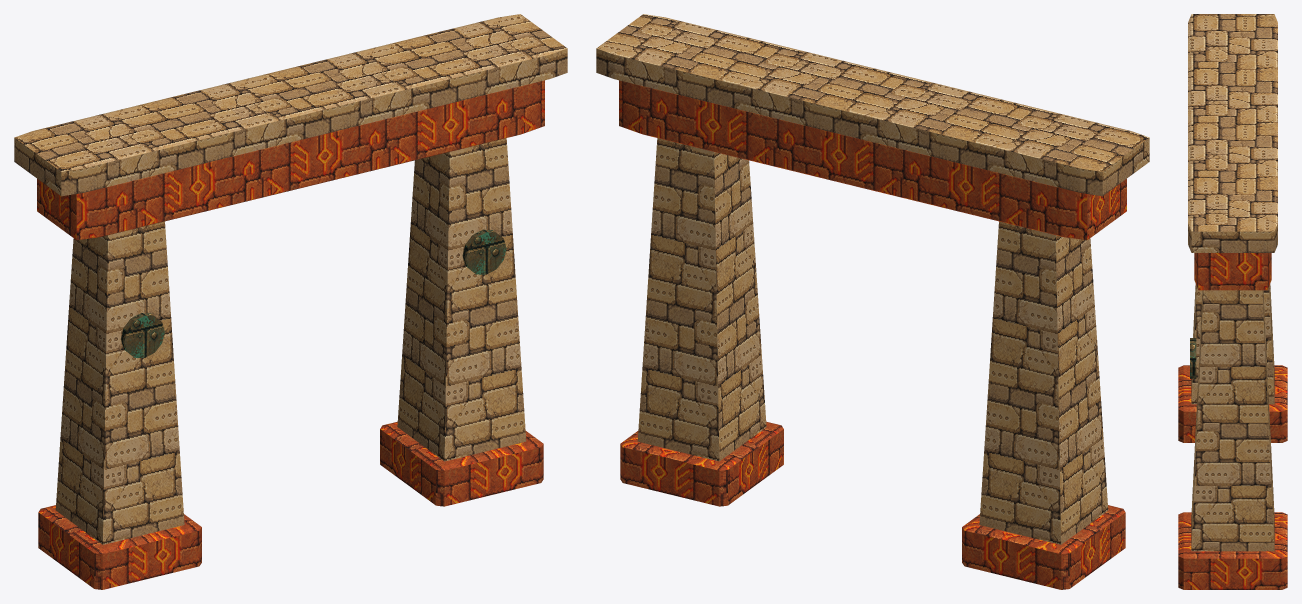
File: ruin_gate.glb
3 views of the same model, side by side, from view 1: azimuth 30°, elevation 25°; view 2: azimuth 150°, elevation 25°; view 3: azimuth 270°, elevation 25° (orthographic). The views are drawn at different scales.
Parts seen in each view (by area): view 1: Cornice, Pylon-1, Pylon1, Lintel, Foot1, Foot-1, Disc1, Disc-1; view 2: Cornice, Pylon-1, Pylon1, Lintel, Foot1, Foot-1; view 3: Cornice, Pylon1, Foot1, Lintel, Foot-1, Pylon-1, Disc1.
Boxes of the visible parts, <box> form: Cornice: <box>14,14,567,196</box>; Pylon-1: <box>55,221,184,544</box>; Pylon1: <box>397,138,526,461</box>; Lintel: <box>37,80,544,240</box>; Foot1: <box>380,421,543,506</box>; Foot-1: <box>38,505,201,589</box>; Disc1: <box>462,229,506,274</box>; Disc-1: <box>120,313,164,357</box>; Cornice: <box>596,14,1149,196</box>; Pylon-1: <box>979,221,1108,544</box>; Pylon1: <box>637,138,766,461</box>; Lintel: <box>619,80,1126,240</box>; Foot1: <box>620,421,783,506</box>; Foot-1: <box>962,505,1125,589</box>; Cornice: <box>1188,14,1277,252</box>; Pylon1: <box>1191,290,1274,551</box>; Foot1: <box>1178,512,1287,589</box>; Lintel: <box>1194,253,1271,290</box>; Foot-1: <box>1178,365,1287,442</box>; Pylon-1: <box>1191,284,1274,404</box>; Disc1: <box>1190,338,1196,378</box>.
Bounding box in the file's own units: 8 × 6.4 × 1.7.
Materials: 3 (3 with a texture image).
